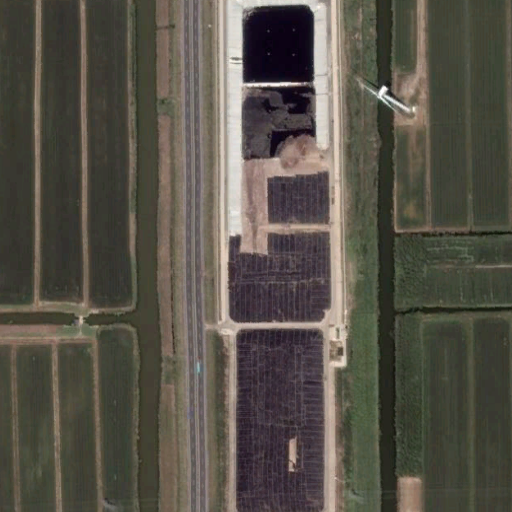lf: (211, 16, 351, 512)
